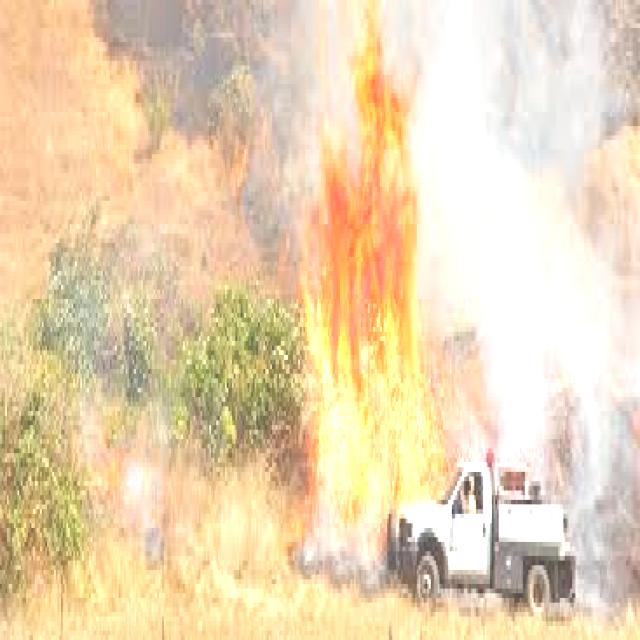fire: (282, 14, 458, 584), (82, 416, 194, 560), (202, 122, 265, 225)
